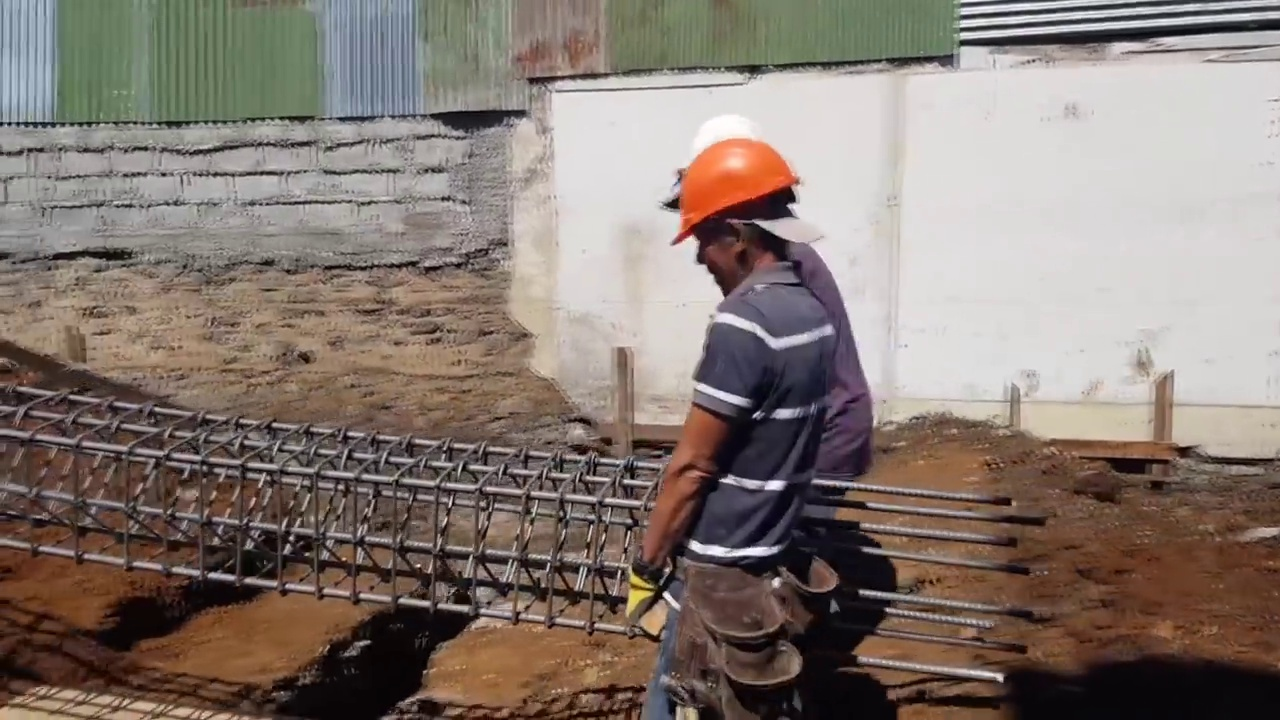helmet: (670, 121, 799, 241)
helmet-on: (672, 122, 801, 304)
person: (625, 129, 874, 720)
